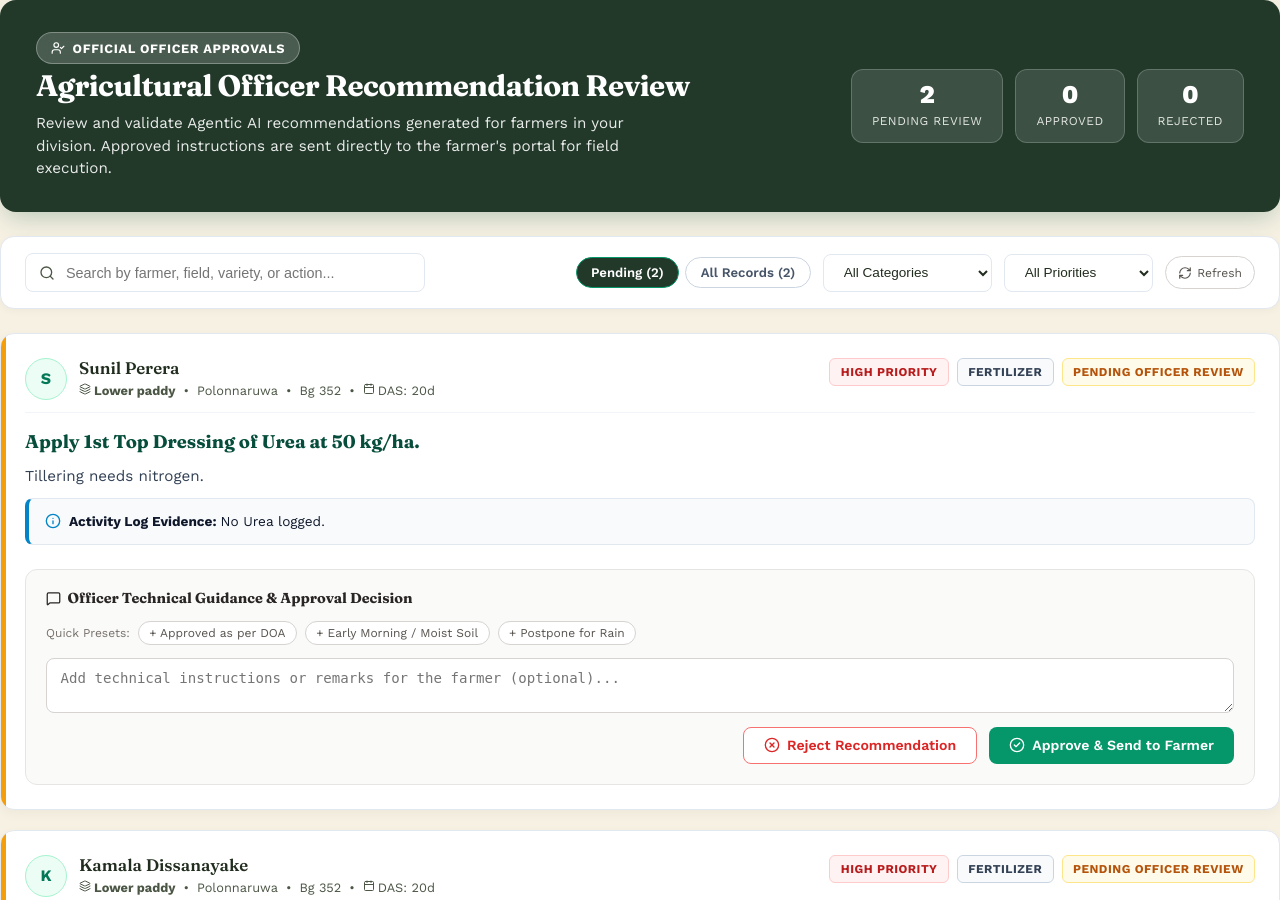
Test: OfficerRecommendationQueue › search narrows the list by farmer, field or action
The image size is (1280, 900).
Expected: the heading "Kamala Dissanayake" is shown, top-left (79, 855), bottom-right (248, 875)
Type "irrigate" into the field with placeholder "Search by farmer, field, variety, or action...".
click(225, 273); type("irrigate")  # box top-left (25, 253), bottom-right (425, 292)
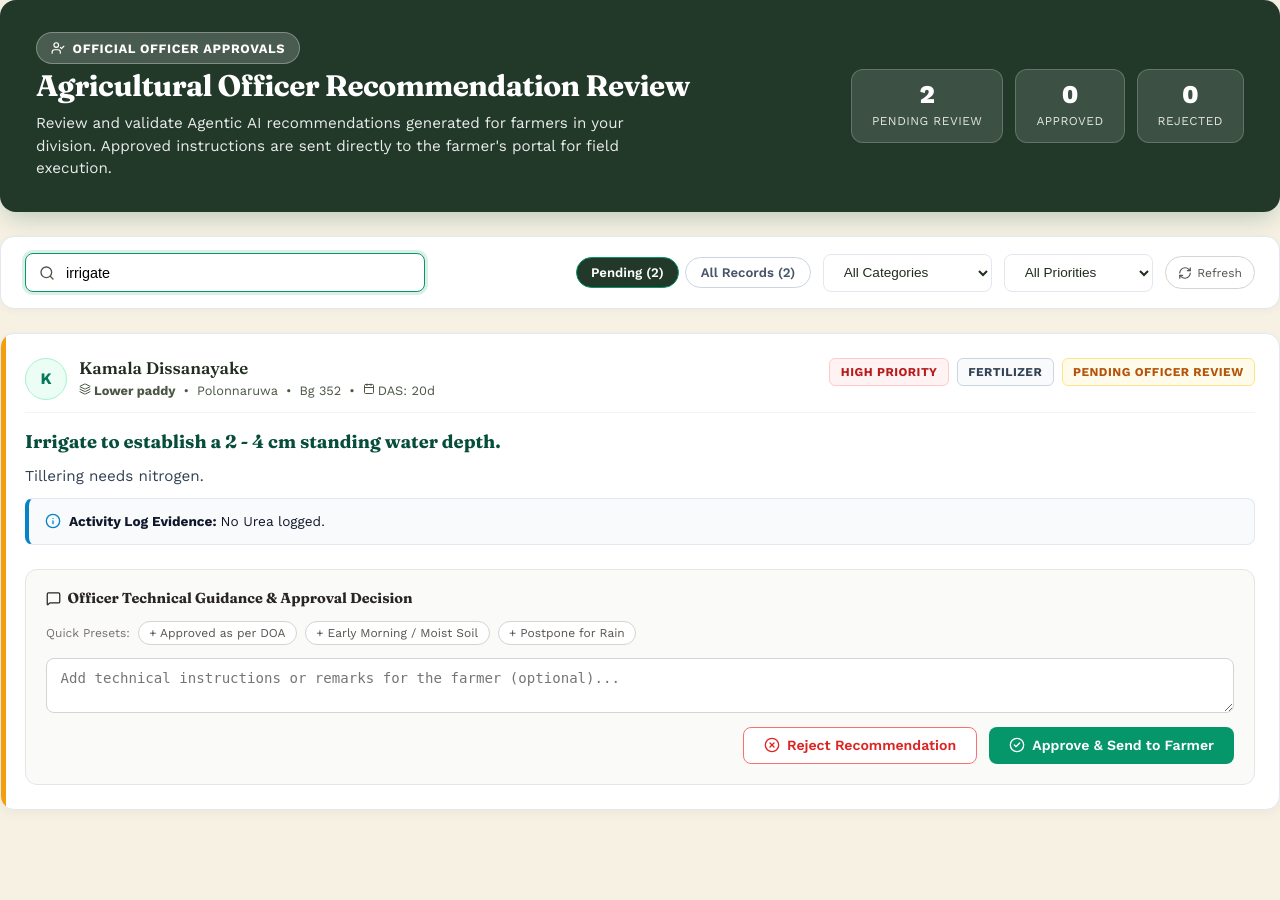
Expected: the heading "Kamala Dissanayake" is shown, top-left (79, 358), bottom-right (248, 378)
Expected: the heading "Sunil Perera" is gone
